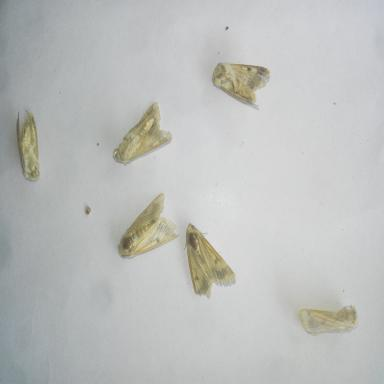abw: (113, 188, 182, 266), (182, 218, 239, 301), (109, 99, 176, 167), (210, 55, 273, 113), (295, 298, 363, 342), (12, 106, 45, 185)
